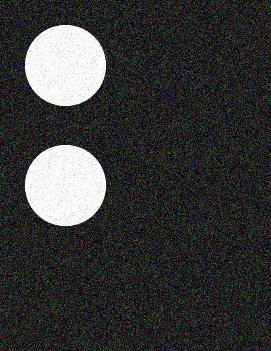B: (21, 21, 251, 332)
